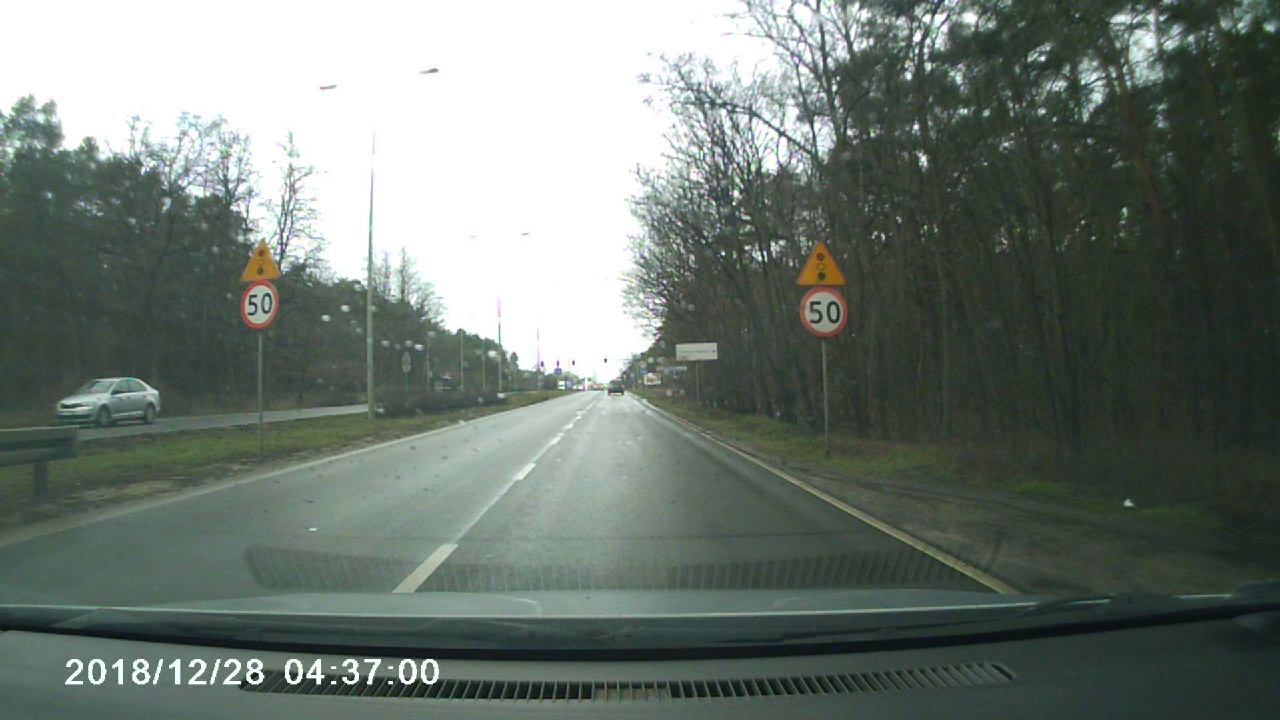A29: (792, 237, 853, 285), (236, 236, 283, 283)
B33_50: (801, 288, 849, 336), (236, 283, 280, 327)
